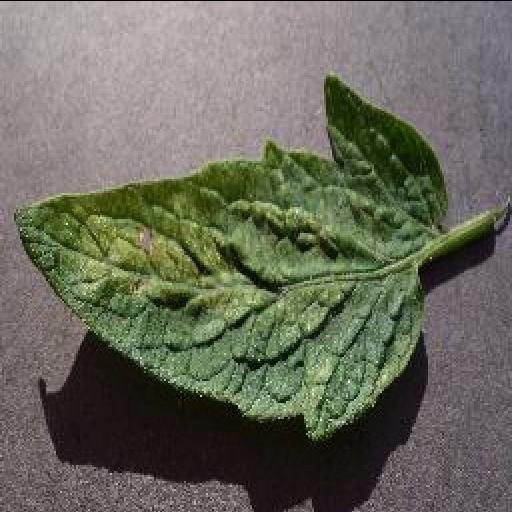disease_tomato: (7, 74, 449, 436)
